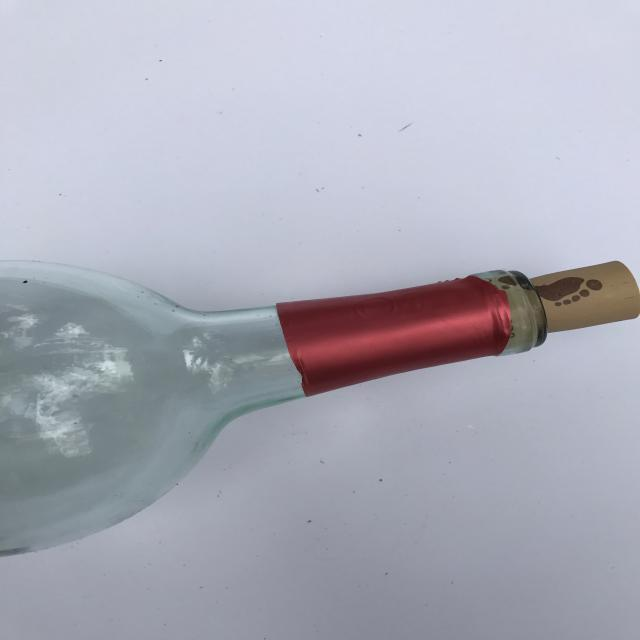glass: (6, 254, 640, 557)
